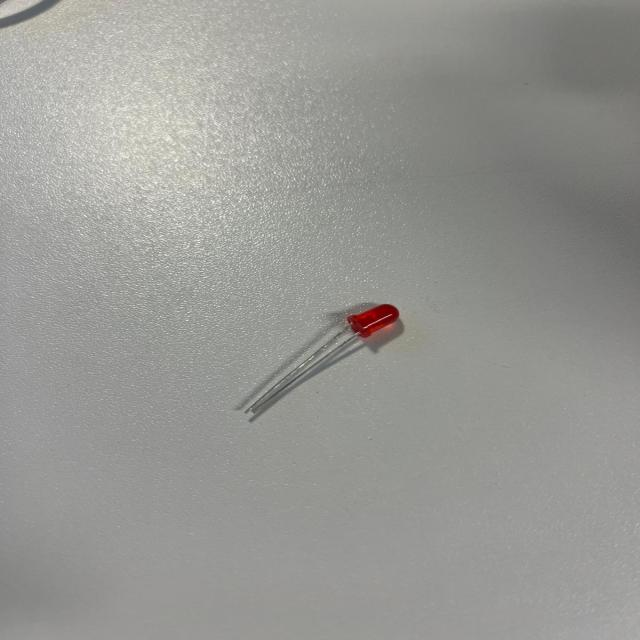REDLed: (241, 288, 420, 463)
